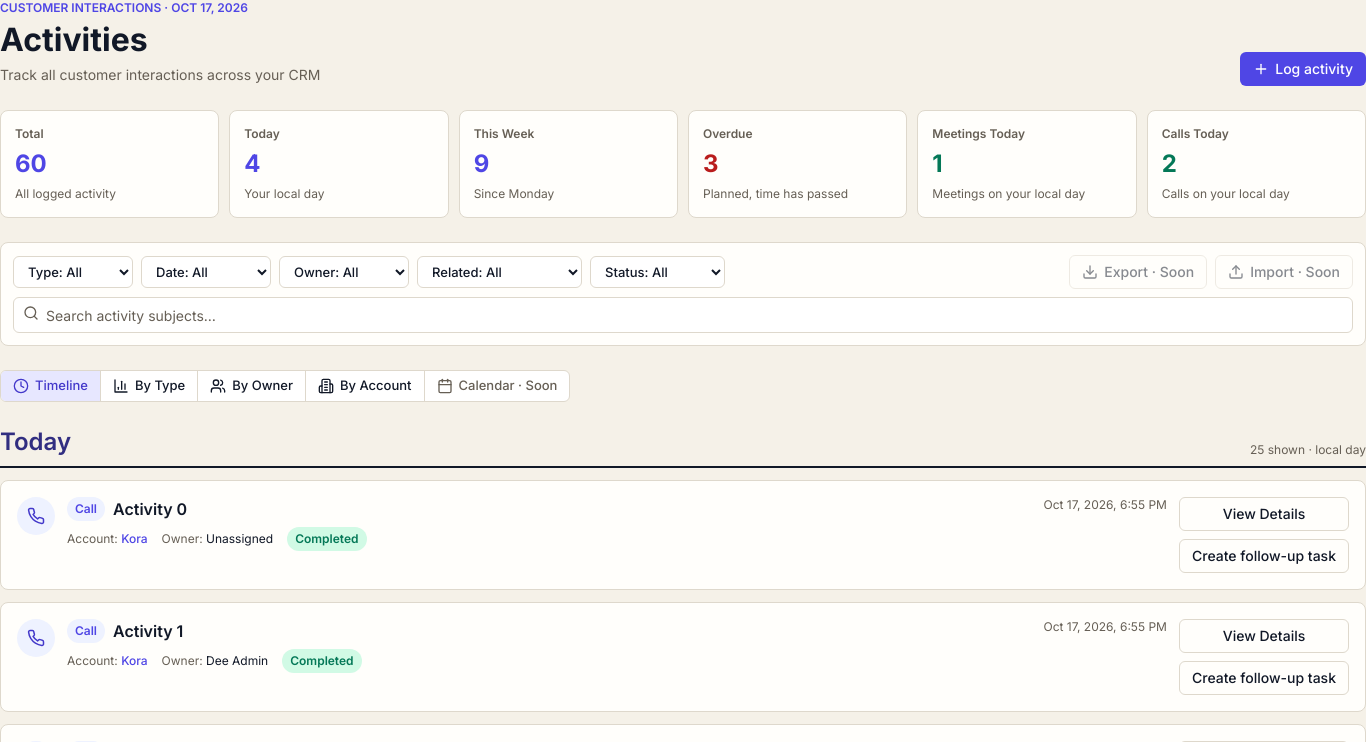
Test: Activities — server page, server counts, real filters › Log activity chooses the record, then opens the real form for it
The image size is (1366, 742).
Click the button "Log activity": (1303, 69) [1240,52,1365,86]
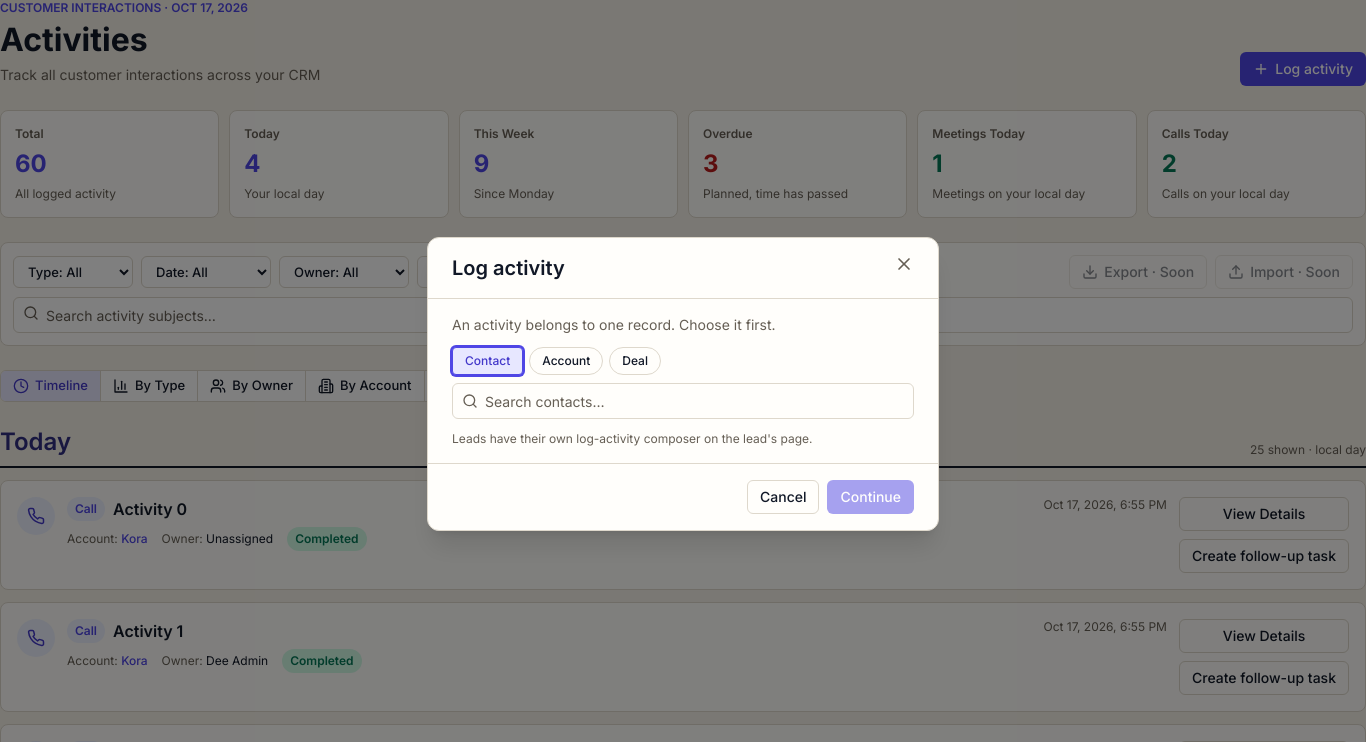
In the dropdown named "Search for the record": (683, 401) [452,383,914,419], type "Ana"
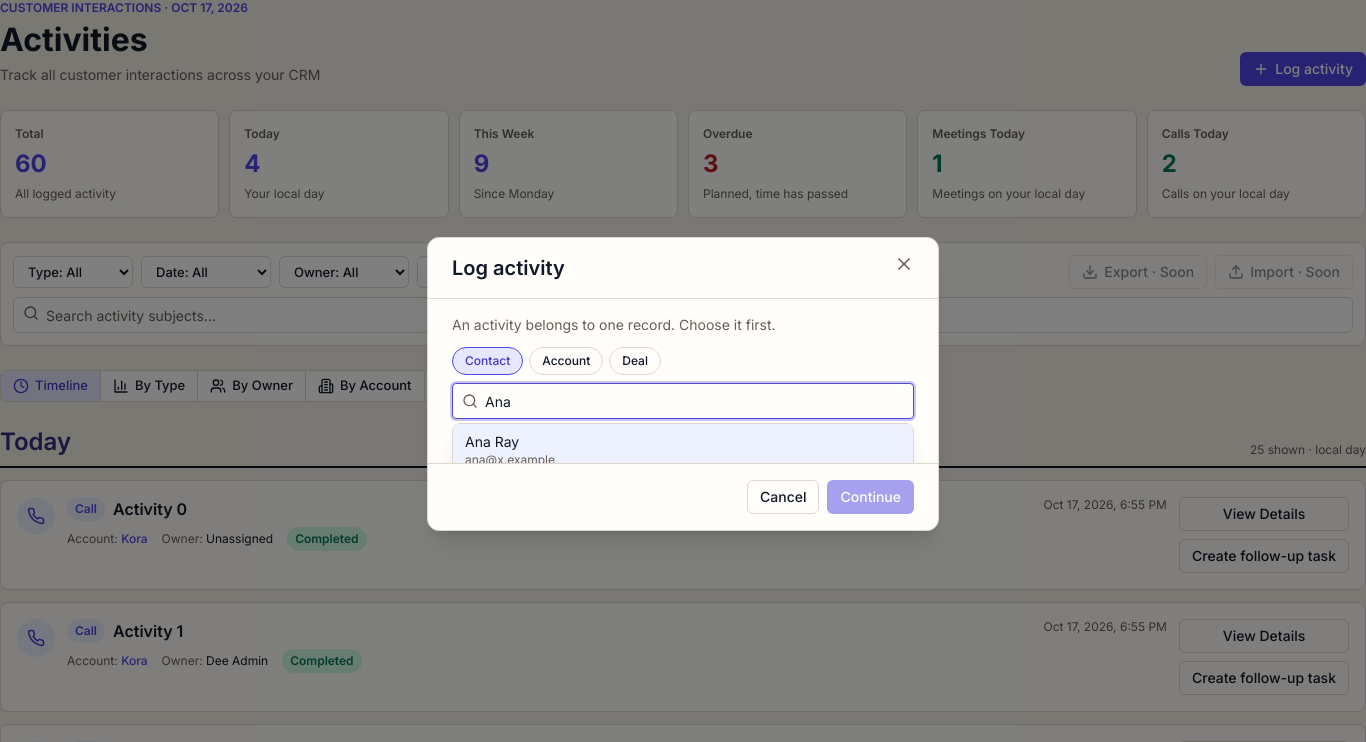
Click the option "Ana Ray ana@x.example": (492, 442) [453,424,913,476]
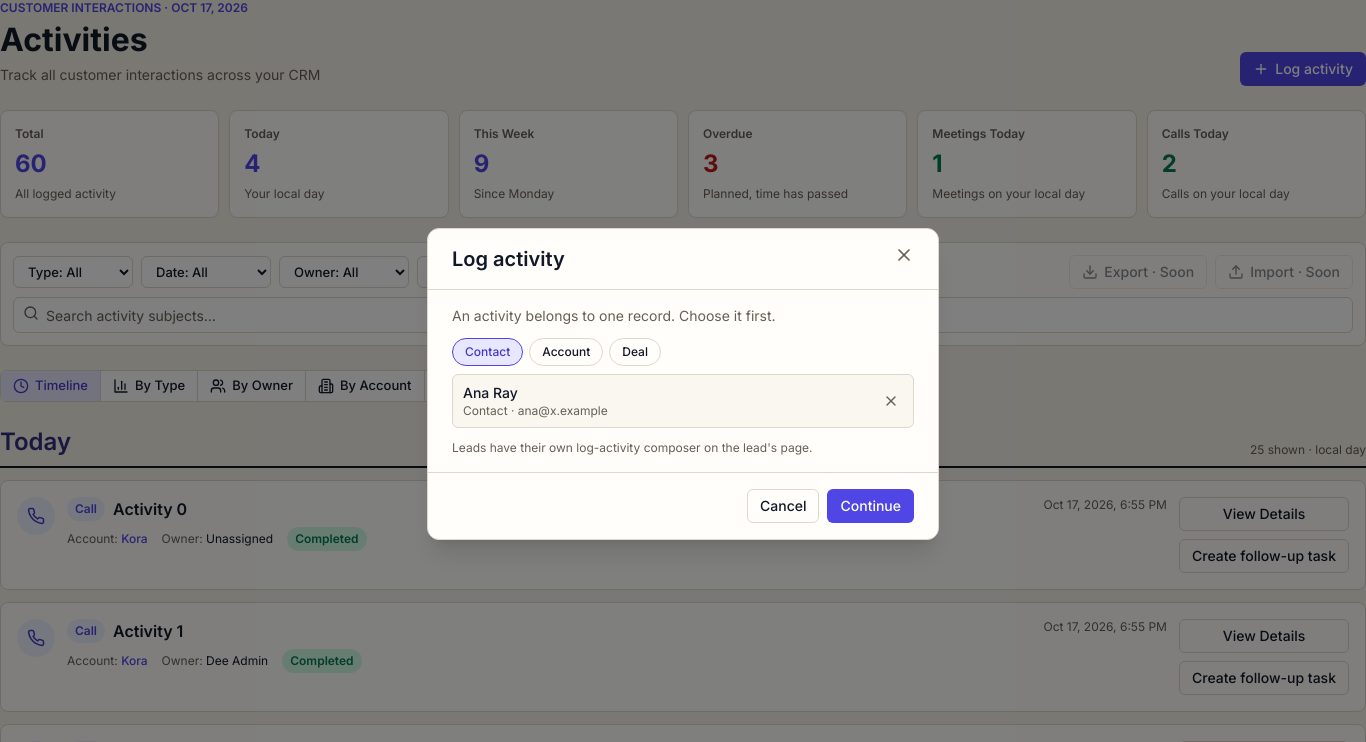
Click the button "Continue": (871, 506) [828,489,914,523]
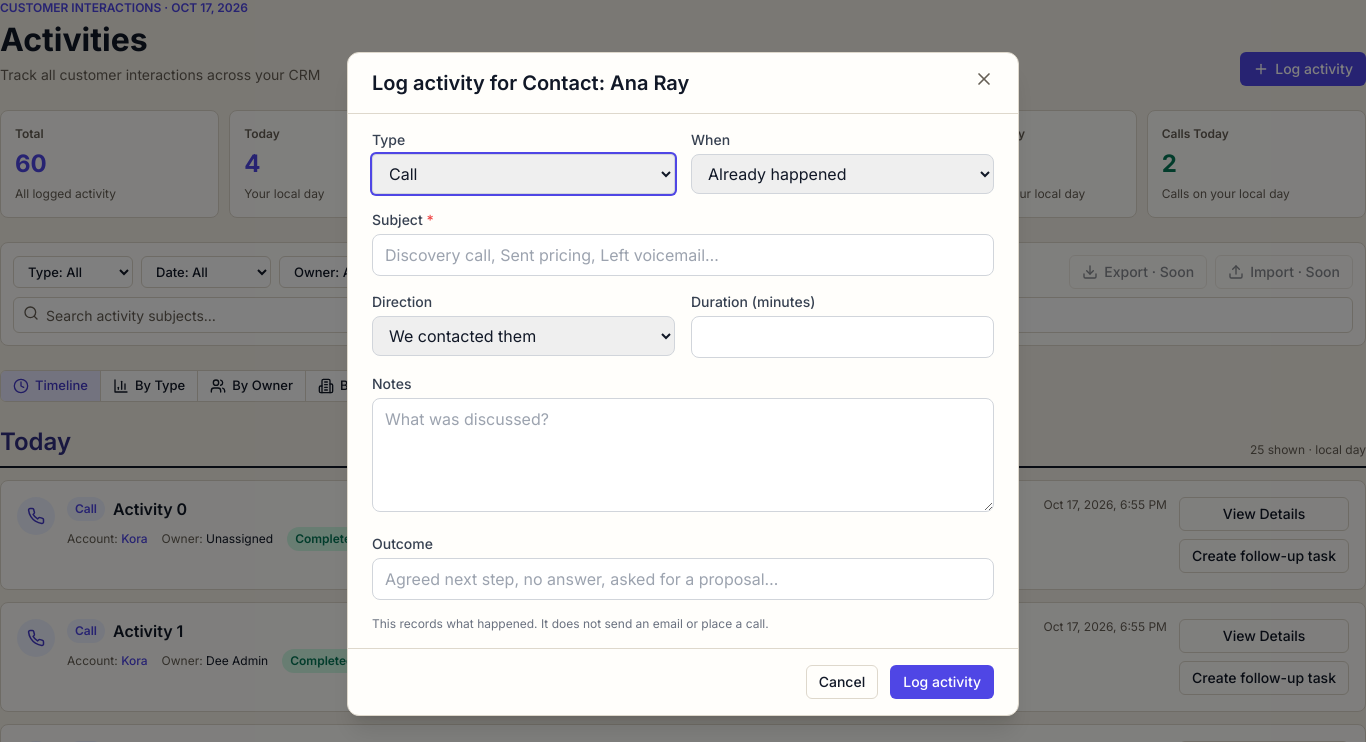
Now the heading "Log activity for Contact: Ana Ray" is shown, box [372,69,689,97]
